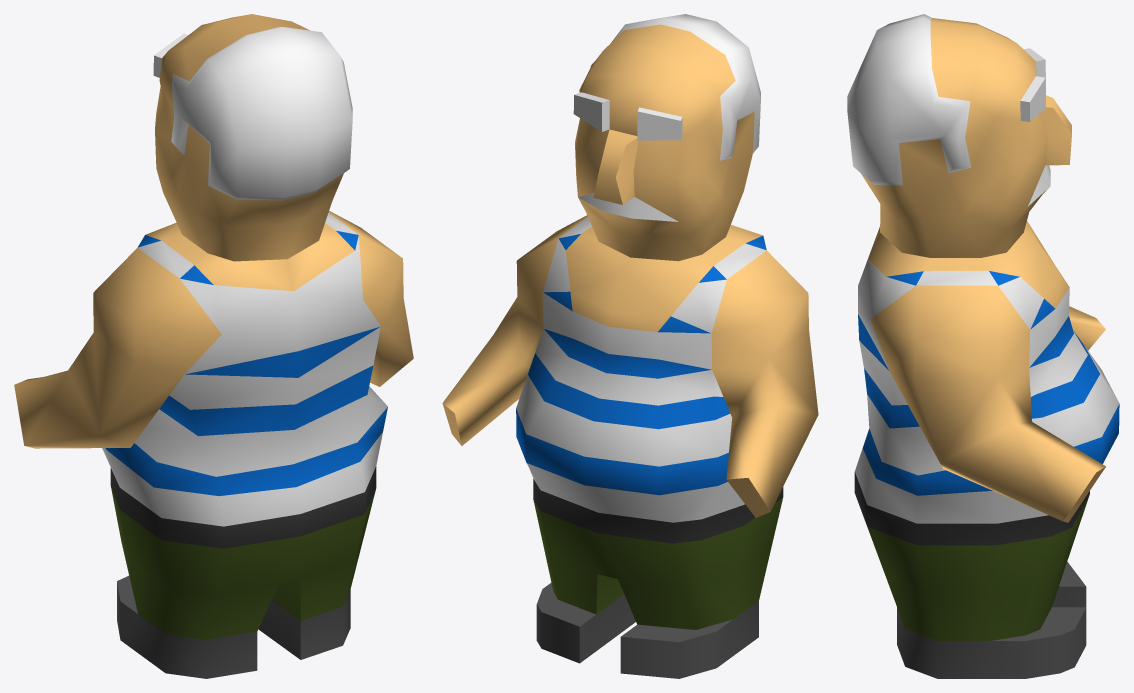
File: person.fbx
3 renders of one model, left to right at view 1: azimuth 30°, elevation 25°; view 2: azimuth 150°, elevation 25°; view 3: azimuth 270°, elevation 25°, orthographic. The views are drawn at different scales.
Visible parts, largest first — view 1: person; view 2: person; view 3: person.
Boxes of the visible parts, bbox=[...] form: person: bbox=[14, 14, 413, 678]; person: bbox=[442, 14, 818, 678]; person: bbox=[847, 14, 1119, 678].
Size of the model in its own units: 98.85 by 174 by 70.57.
1 material, 1 textured.
